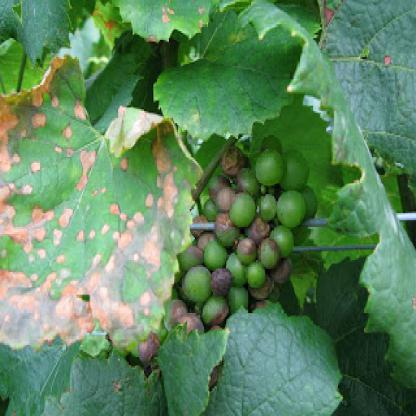grape leaf black rot: (1, 59, 200, 352)
